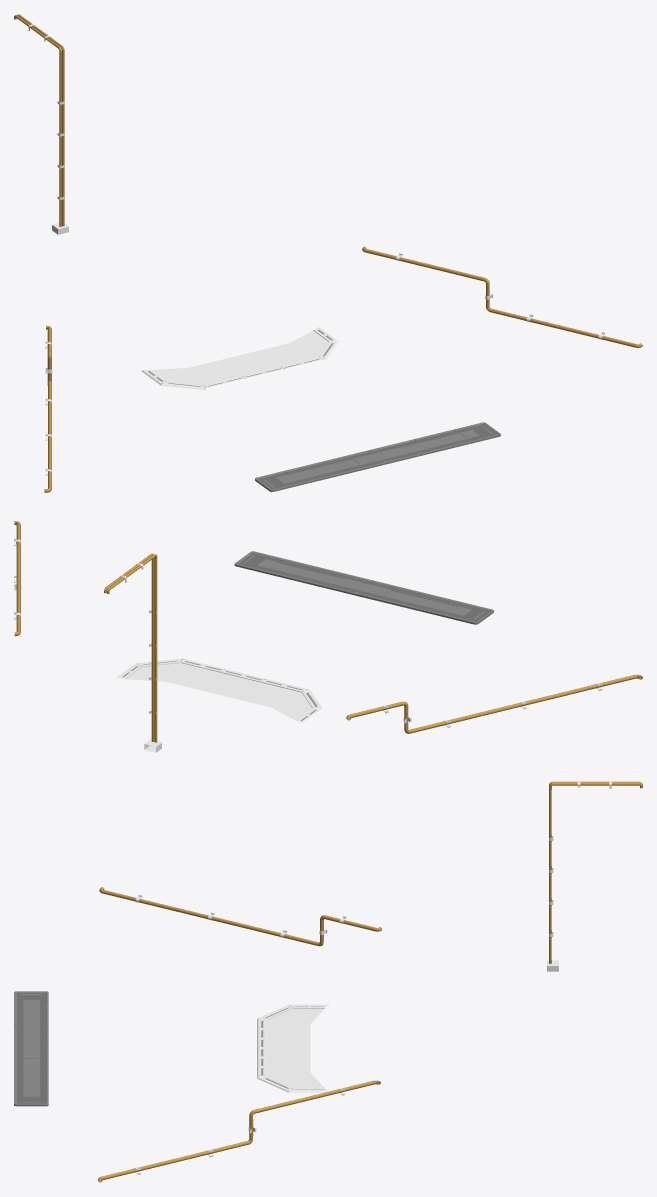
The picture shows the model from 3 angles, top to bottom: view 1: azimuth 30°, elevation 25°; view 2: azimuth 150°, elevation 25°; view 3: azimuth 270°, elevation 25°; orthographic projection. The views are drawn at different scales.
Visible parts, largest first — view 1: SM_H_Building_FutureTech_Test_01_ExterWall_03; view 2: SM_H_Building_FutureTech_Test_01_ExterWall_03; view 3: SM_H_Building_FutureTech_Test_01_ExterWall_03.
Part boxes in pixels (left/top/right/bottom): SM_H_Building_FutureTech_Test_01_ExterWall_03: left=14, top=14, right=642, bottom=492; SM_H_Building_FutureTech_Test_01_ExterWall_03: left=14, top=521, right=642, bottom=752; SM_H_Building_FutureTech_Test_01_ExterWall_03: left=14, top=781, right=642, bottom=1182.
Bounding box in the file's own units: 1097 × 1213 × 459.
